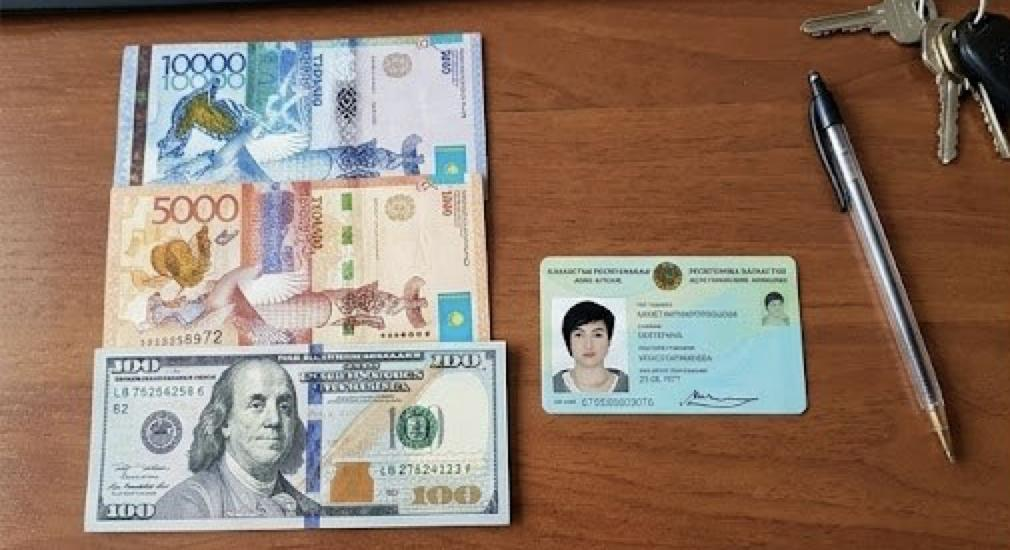cash_stack: (87, 345, 513, 530), (100, 190, 488, 337), (119, 45, 483, 192)
document: (537, 256, 811, 417)
